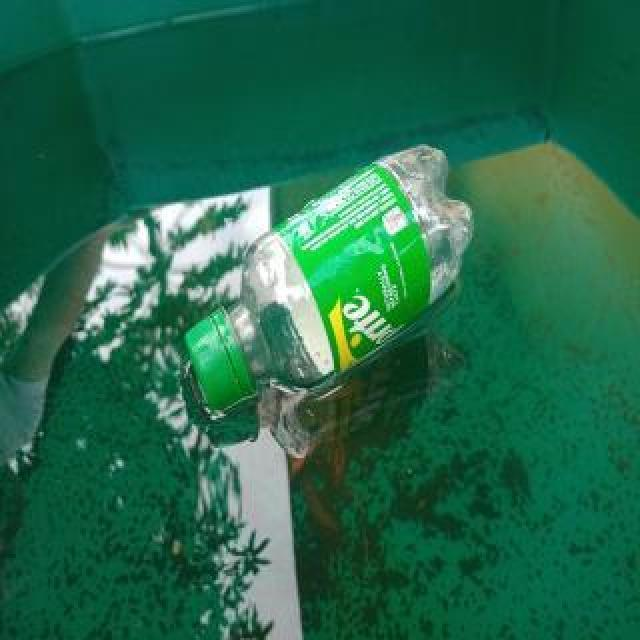bottle: (180, 139, 480, 417)
